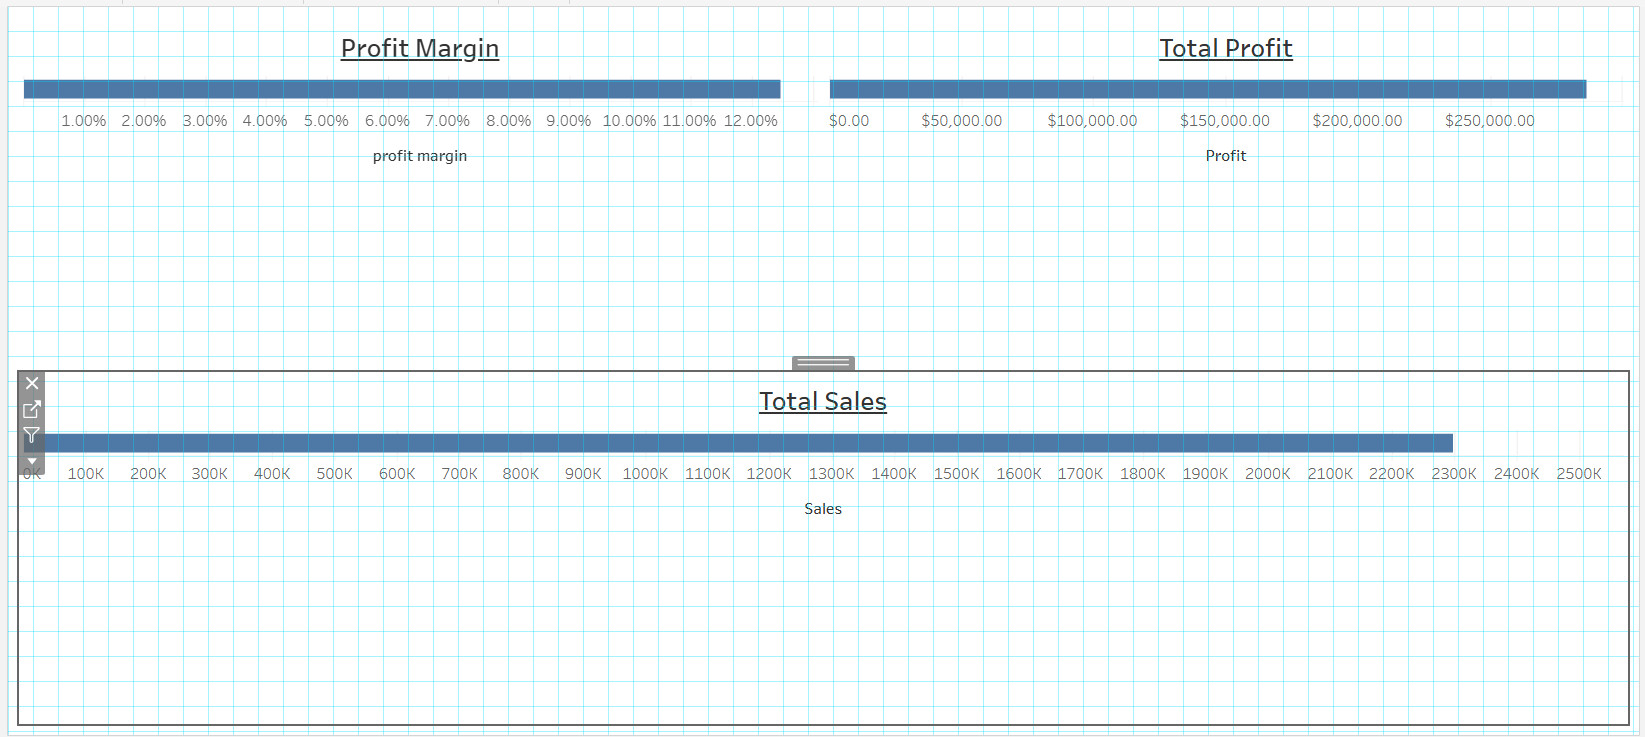

The page's visual inventory and layout, read from the dashboard file:
{"tool":"tableau","page":{"name":"Dashboard 1","canvas":[1000,1000],"units":"permille","ordinal":0},"visuals":[{"type":"worksheet","title":"Sheet 3","mark":"Automatic","cols":["Calculation_1055534206099523"],"box":[6.1,13.8,493.9,486.2]},{"type":"worksheet","title":"Sheet 2","mark":"Automatic","cols":["Profit"],"box":[500,13.8,493.9,486.2]},{"type":"worksheet","title":"Sheet 1","mark":"Automatic","cols":["Sales"],"box":[6.1,500,987.7,486.2]}]}

Visuals, with their boxes on the dashboard's canvas, which has no fixed pixel size, in thousandths of its width and height (x1, y1, x2, y2). These are canvas units, not pixel positions in the 1645x737 screenshot, which may show the page scaled, cropped or inside an application window:
"Sheet 3" worksheet: pyautogui.locateOnScreen(6, 14, 500, 500)
"Sheet 2" worksheet: pyautogui.locateOnScreen(500, 14, 994, 500)
"Sheet 1" worksheet: pyautogui.locateOnScreen(6, 500, 994, 986)
